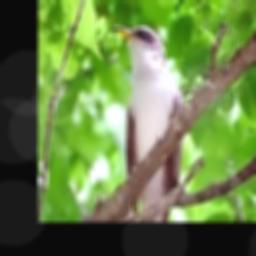Cuckoo: (113, 24, 184, 222)
